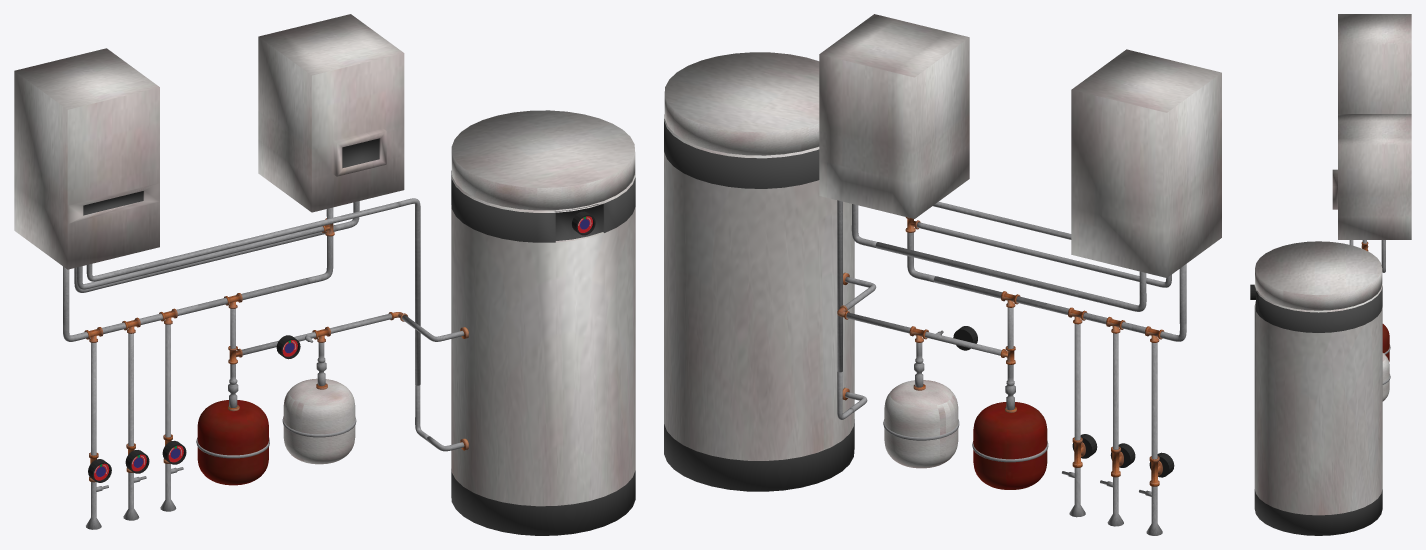
Rendered from pipes.glb.
The picture shows the model from 3 angles, left to right: view 1: azimuth 30°, elevation 25°; view 2: azimuth 150°, elevation 25°; view 3: azimuth 270°, elevation 25°; orthographic projection. The views are drawn at different scales.
Visible parts, largest first — view 1: pipeline; view 2: pipeline; view 3: pipeline.
Boxes of the visible parts, left/top/right/bottom form: pipeline: left=14, top=14, right=635, bottom=535; pipeline: left=664, top=14, right=1221, bottom=535; pipeline: left=1250, top=14, right=1411, bottom=535.
Bounding box in the file's own units: 6.29 × 5.43 × 2.34.
9 materials, 7 textured.
